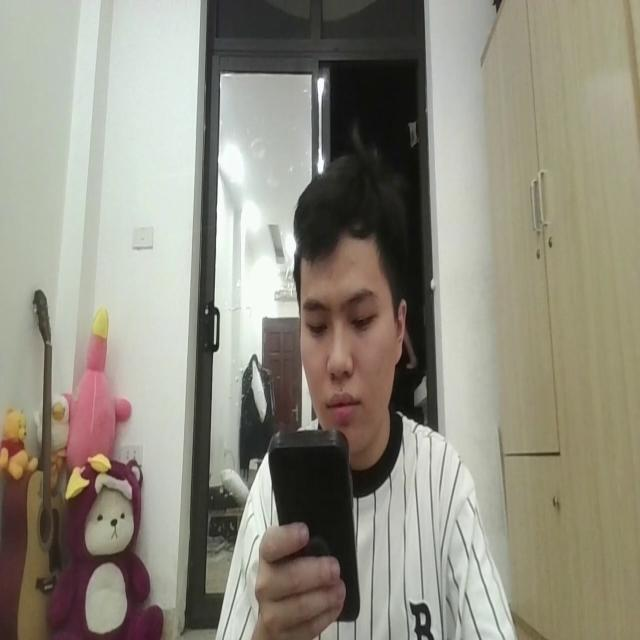phone: (268, 417, 360, 625)
student: (217, 144, 514, 640)
